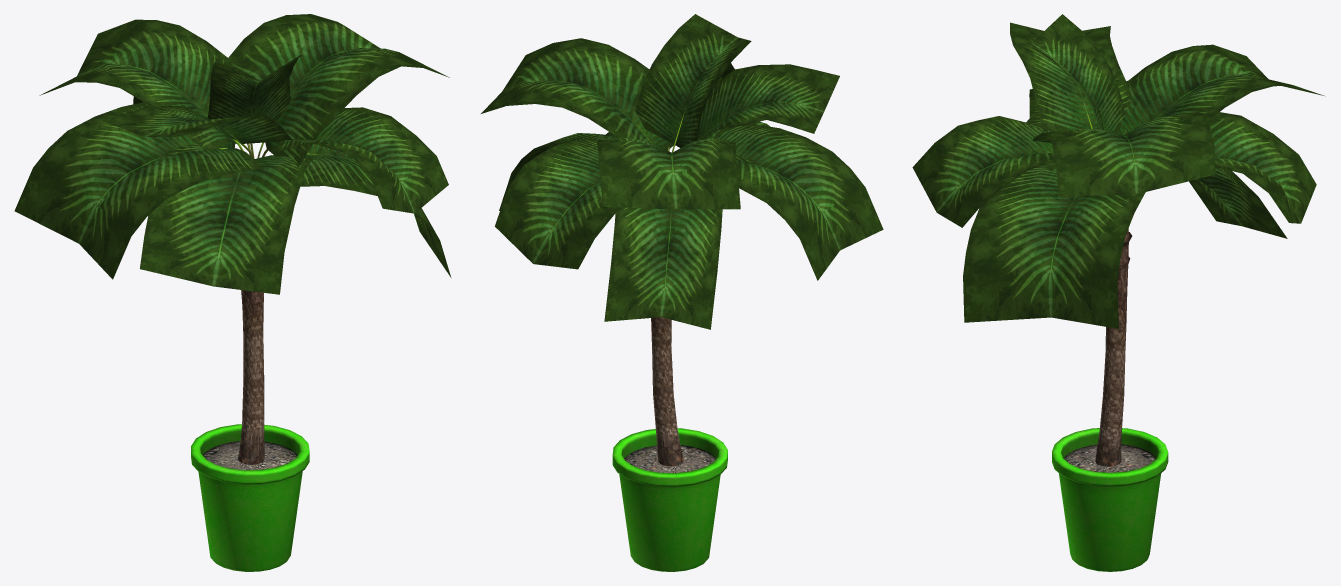
File: Furniture_foliageplant_05b_LOD0 #39160.fbx
3 views of the same model, side by side, from view 1: azimuth 30°, elevation 25°; view 2: azimuth 150°, elevation 25°; view 3: azimuth 270°, elevation 25° (orthographic). The views are drawn at different scales.
Visible parts, largest first — view 1: F_foliageplant_05b_m1, F_foliageplant_05b_m2; view 2: F_foliageplant_05b_m1, F_foliageplant_05b_m2; view 3: F_foliageplant_05b_m1, F_foliageplant_05b_m2.
Part boxes in pixels (x1,y1,x2,y2): F_foliageplant_05b_m1: (14, 14, 451, 294); F_foliageplant_05b_m2: (191, 290, 309, 571); F_foliageplant_05b_m1: (481, 14, 883, 329); F_foliageplant_05b_m2: (612, 317, 727, 571); F_foliageplant_05b_m1: (912, 14, 1325, 328); F_foliageplant_05b_m2: (1052, 228, 1168, 571).
Size of the model in its own units: 1.4 by 1.91 by 1.4.
Materials: 2 (2 with a texture image).
